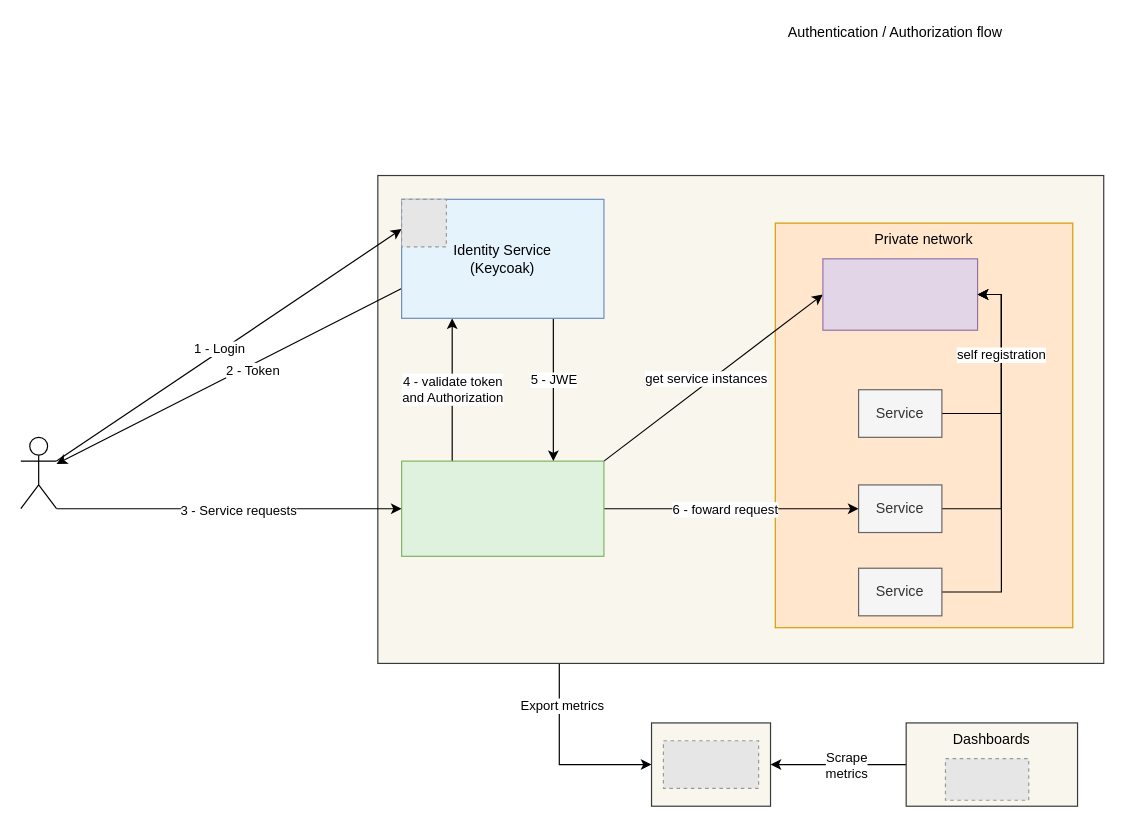
This 1125x837 diagram has some shape labels left out. Grey dashed boxes stand in for pictures. Each missing label, with the centre of its shape:
Actor: the point at 38,472
Service Discovery (Spring Netflix Eureka): the point at 900,294
Spring Cloud Gateway: the point at 502,508
